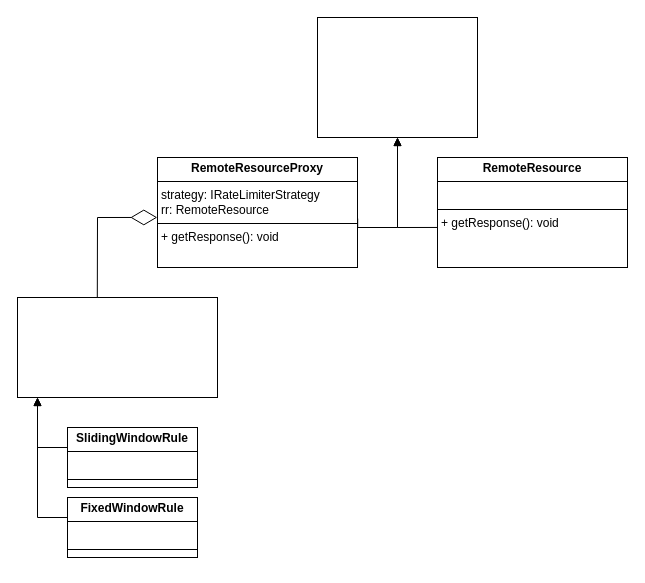
Some shapes in this 645 by 583 pixel diagram are drawn without their labels. Here are the shapes that lost their labels. From the top down, the centre of each, then its label:
At [397,77]: "<<Interface>> IResource + get Response(): void".
At [117,347]: "<<Interface>> IRateLimiterStrategy checkRateLimitReached(): boolean".
